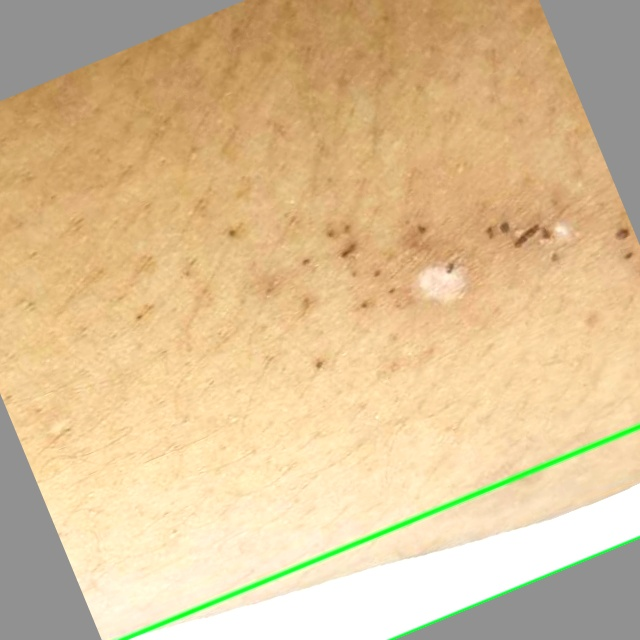Scabies: (124, 427, 639, 639)
